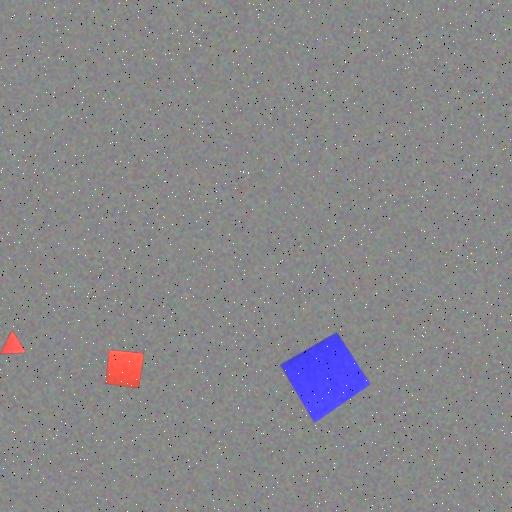BLUE_SQUARE: (279, 331, 371, 423)
RED_SQUARE: (105, 349, 145, 389)
